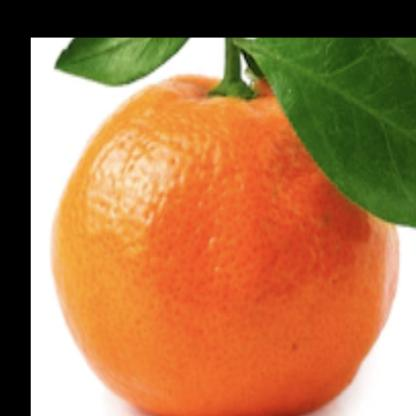fresh: (50, 58, 406, 416)
